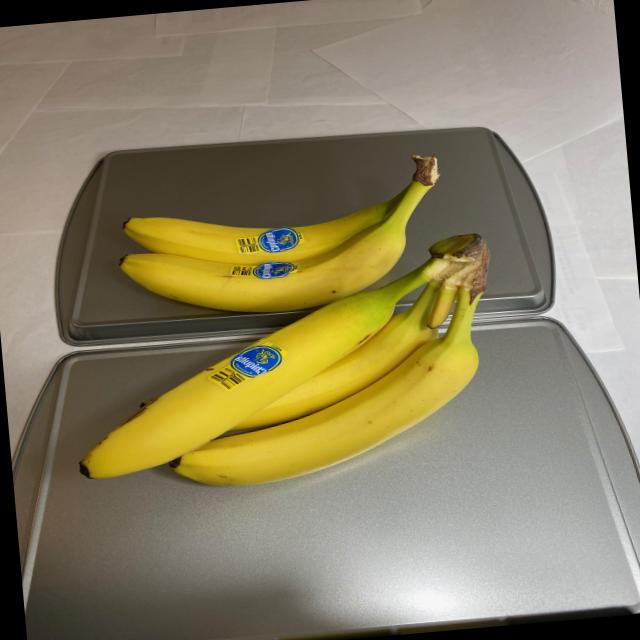banana: (47, 149, 512, 548)
